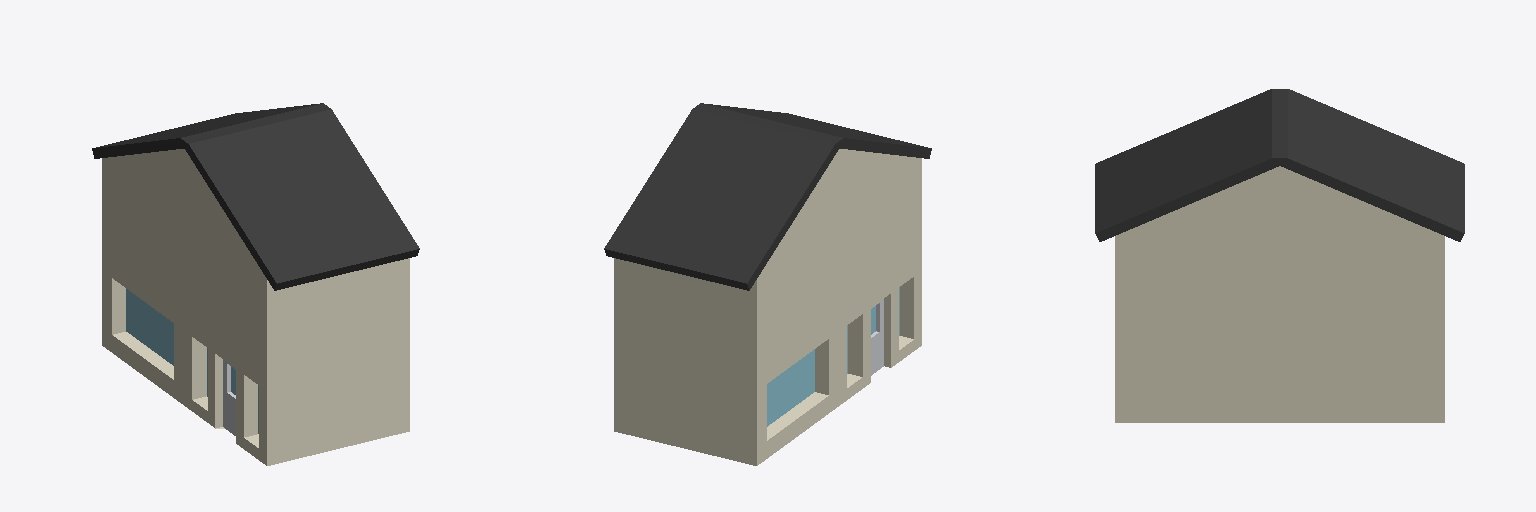
File: WideHouse.obj
The picture shows the model from 3 angles: view 1: azimuth 30°, elevation 25°; view 2: azimuth 150°, elevation 25°; view 3: azimuth 270°, elevation 25°; orthographic projection.
Parts seen in each view (by area): view 1: Mesh1_Group1_Model.426; view 2: Mesh1_Group1_Model.426; view 3: Mesh1_Group1_Model.426.
Boxes of the visible parts, x1=… form: Mesh1_Group1_Model.426: x1=92, y1=103, x2=419, y2=465; Mesh1_Group1_Model.426: x1=604, y1=103, x2=931, y2=465; Mesh1_Group1_Model.426: x1=1095, y1=89, x2=1464, y2=422.
Size of the model in its own units: 2.63 by 4.65 by 5.88.